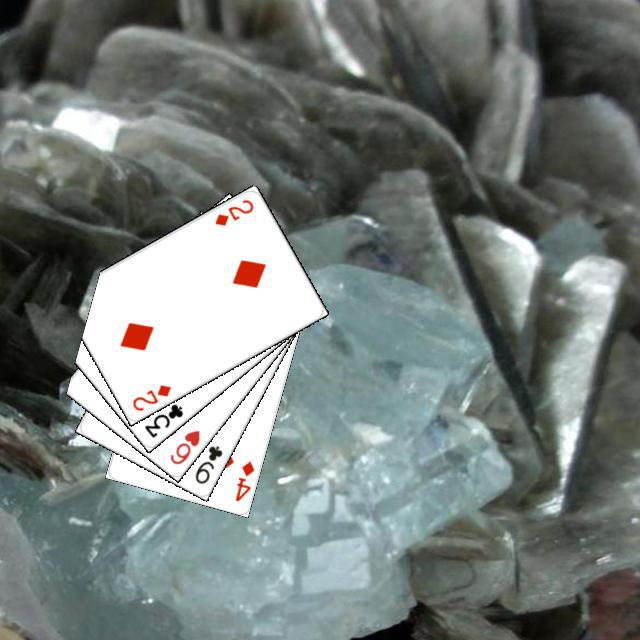2d: (127, 379, 173, 413), (210, 194, 255, 228)
3c: (139, 399, 185, 440)
4d: (230, 456, 256, 503)
6h: (165, 425, 202, 466)
9c: (190, 440, 224, 486)
